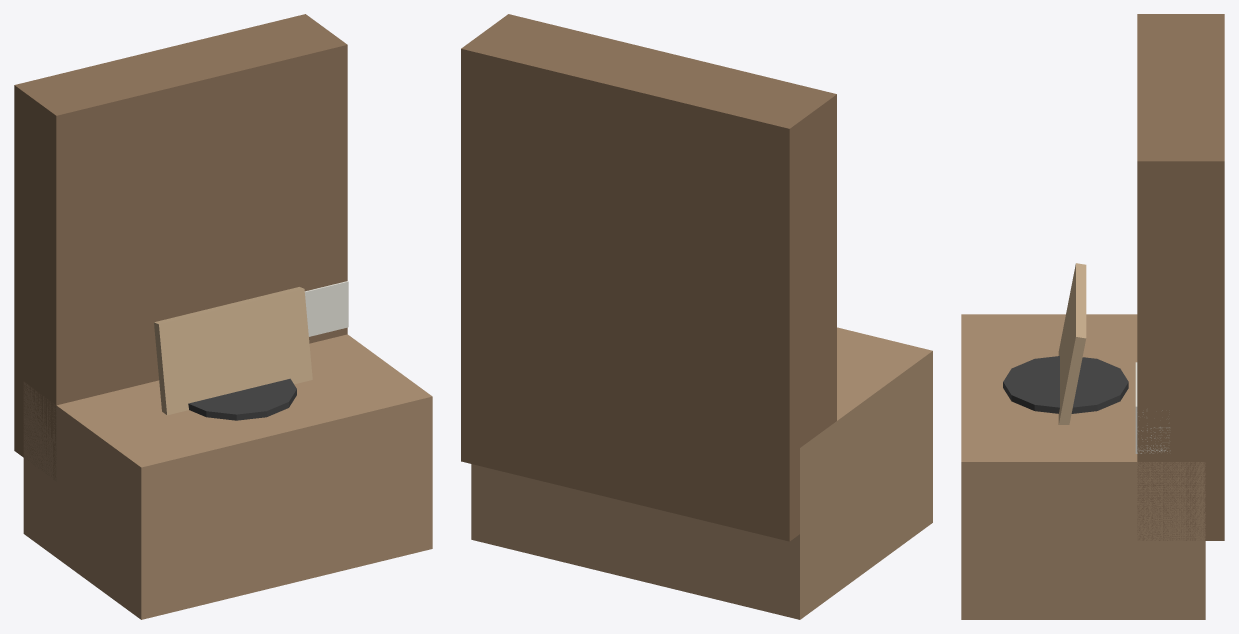
The model's file is garderobe.glb.
3 renders of one model, left to right at view 1: azimuth 30°, elevation 25°; view 2: azimuth 150°, elevation 25°; view 3: azimuth 270°, elevation 25°, orthographic. The views are drawn at different scales.
Visible parts, largest first — view 1: garderobe; view 2: garderobe; view 3: garderobe.
Part boxes in pixels (x1,y1,x2,y2): garderobe: (14,14,432,619); garderobe: (461,14,932,619); garderobe: (961,14,1224,619).
Size of the model in its own units: 1 by 1.45 by 0.755.
